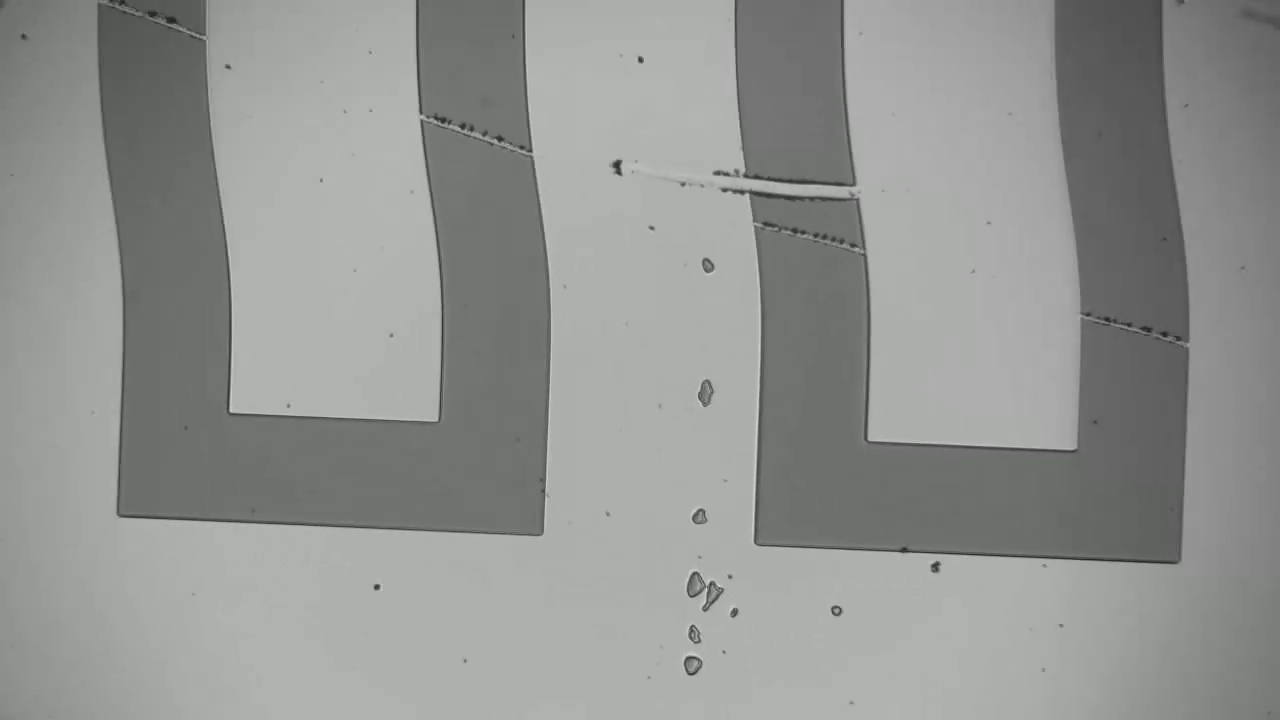Short_circuit: (726, 168, 871, 210)
scratch: (109, 1, 200, 40), (433, 113, 522, 147), (1092, 310, 1185, 340), (761, 217, 855, 246)
